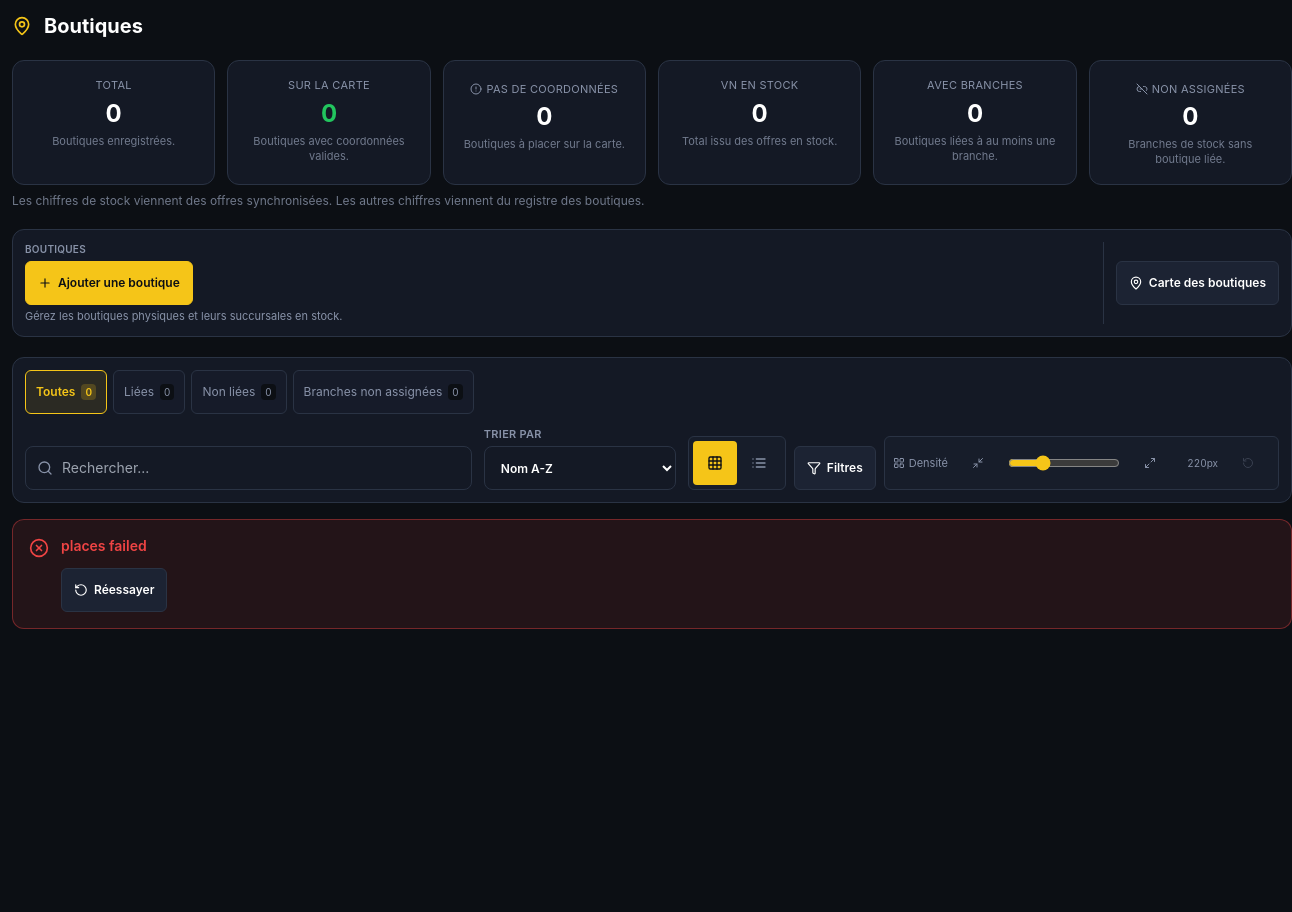
Test: PlaceBrowser › shows load errors and retries
This screenshot has width=1292, height=912.
Expected: the text "places failed" is shown, [61,537,147,554]
Click the button "Réessayer". click: (114, 590)
box: [61,568,168,612]
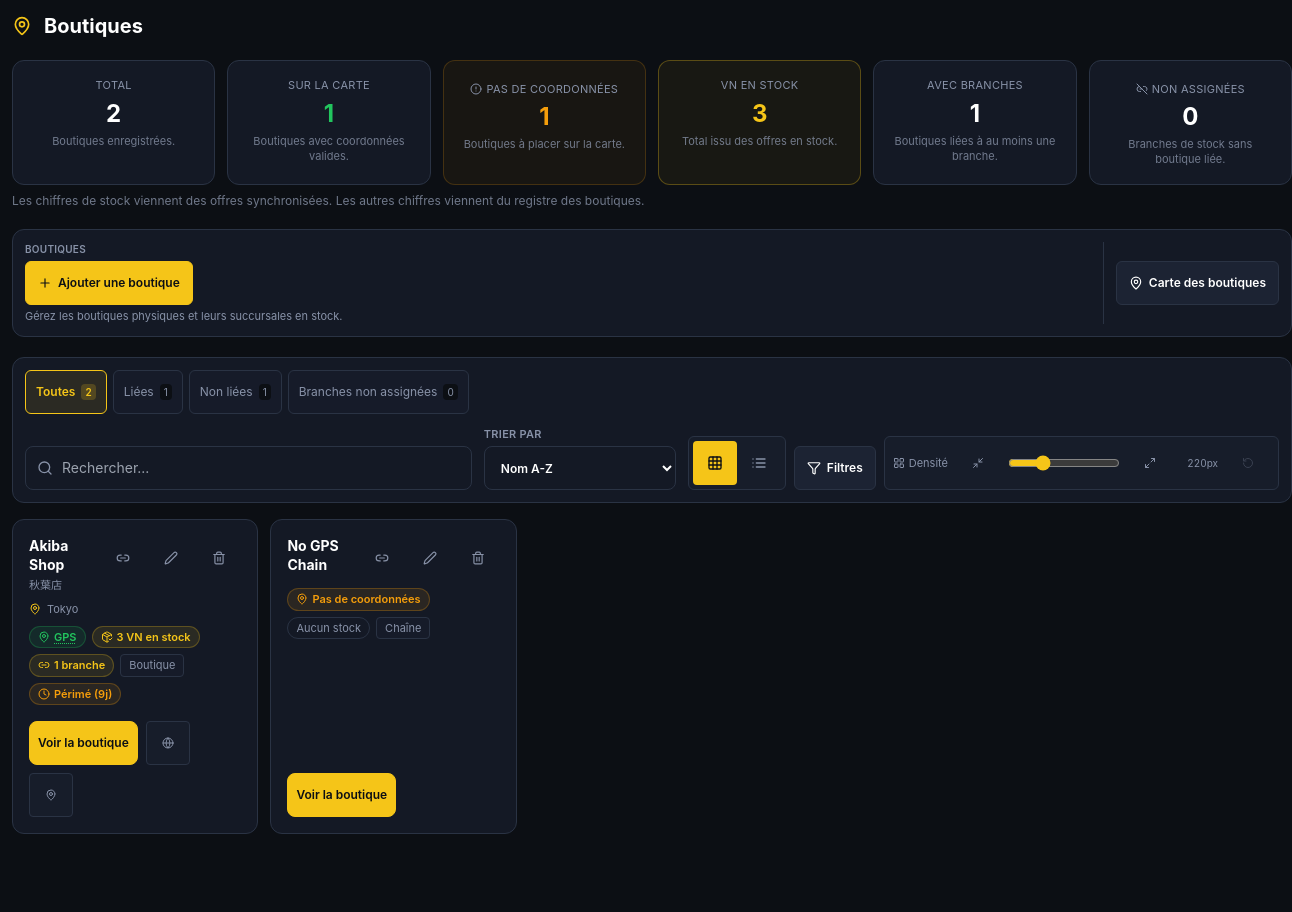
Now the heading "Akiba Shop" is shown, box [29,537,68,573]
